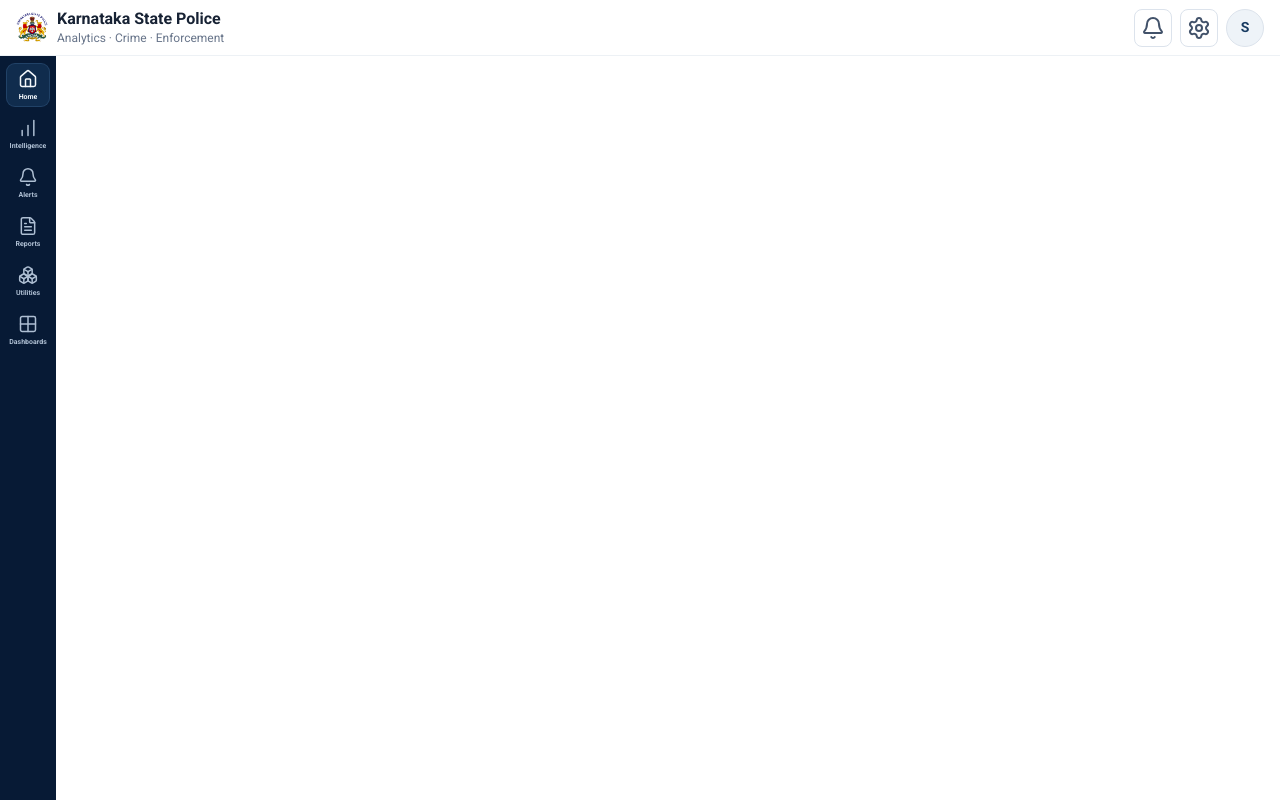
Test case: persists appearance from Settings and closes the menu
Click the button named "Open settings" at (1199, 28), box [1180, 8, 1218, 46]
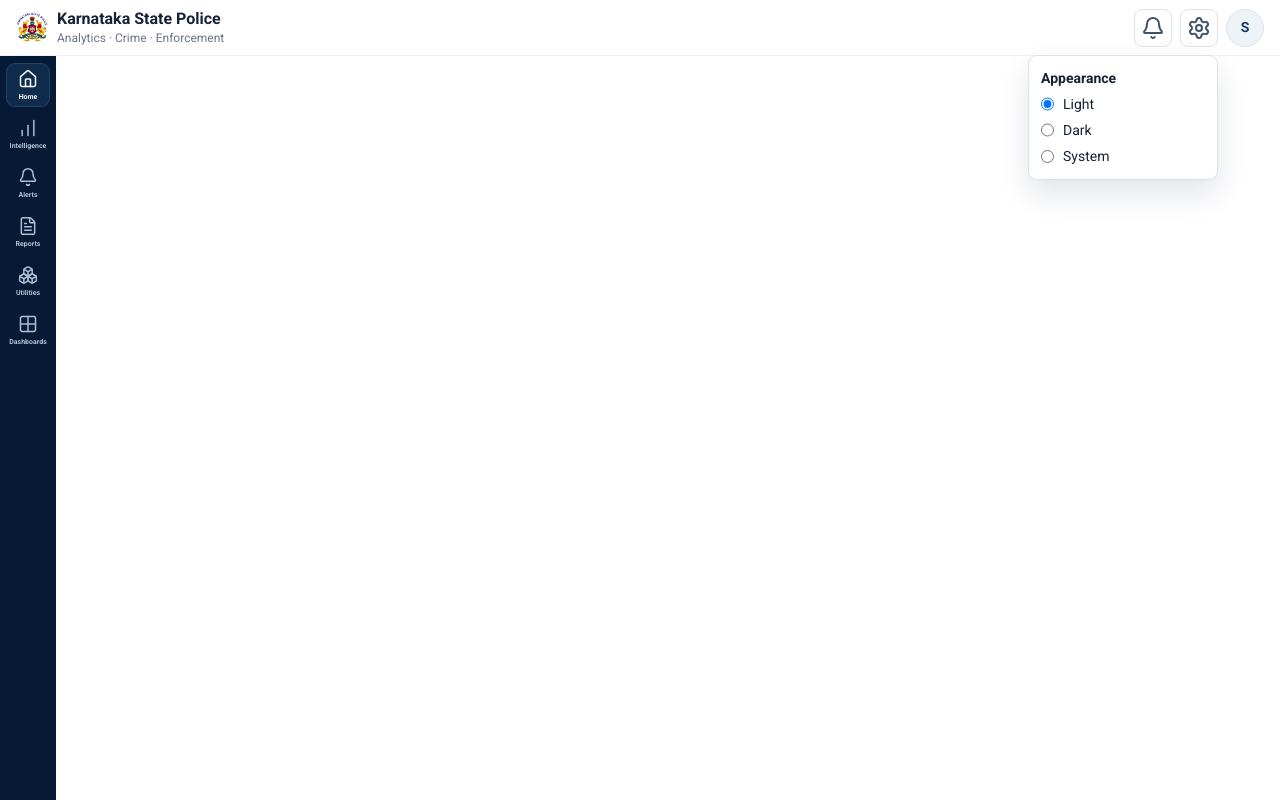
Click the radio button labelled "Dark" at (1048, 130), box [1041, 120, 1054, 140]
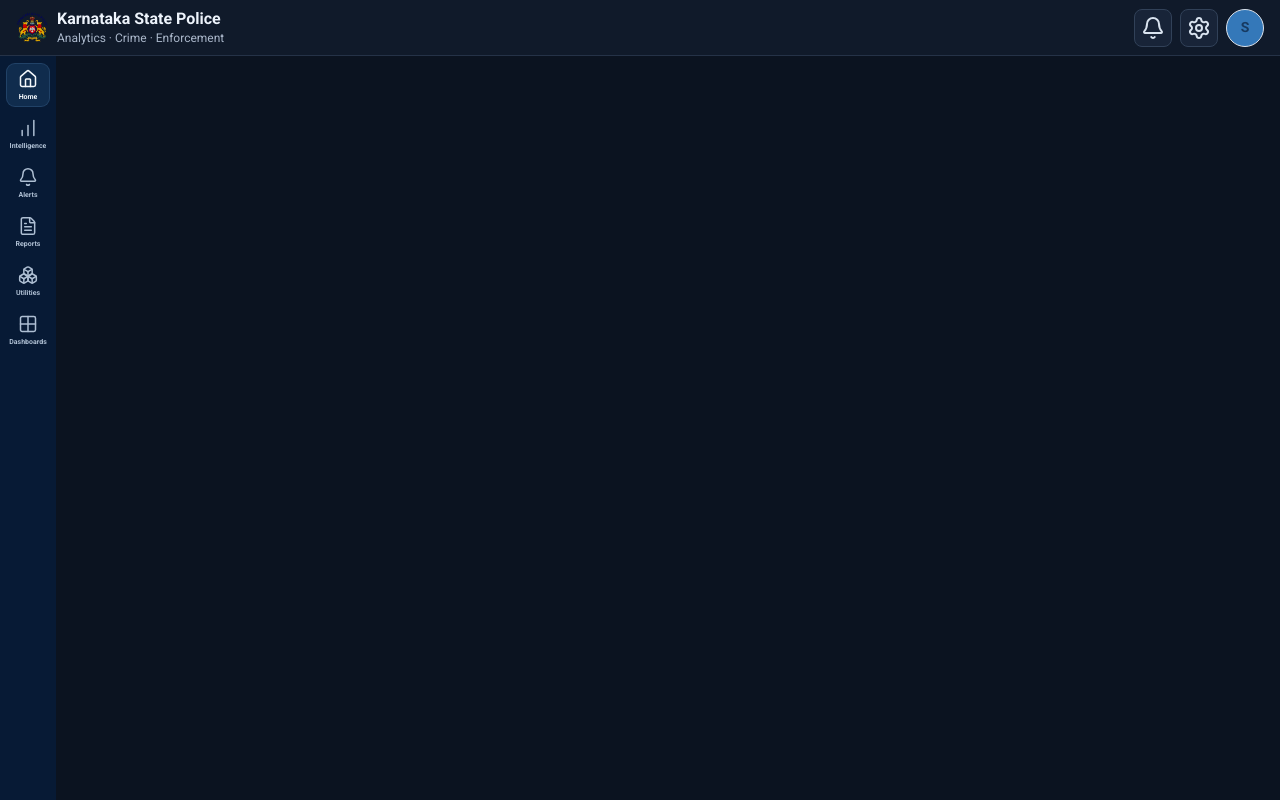
Check: the text "Appearance" is gone
